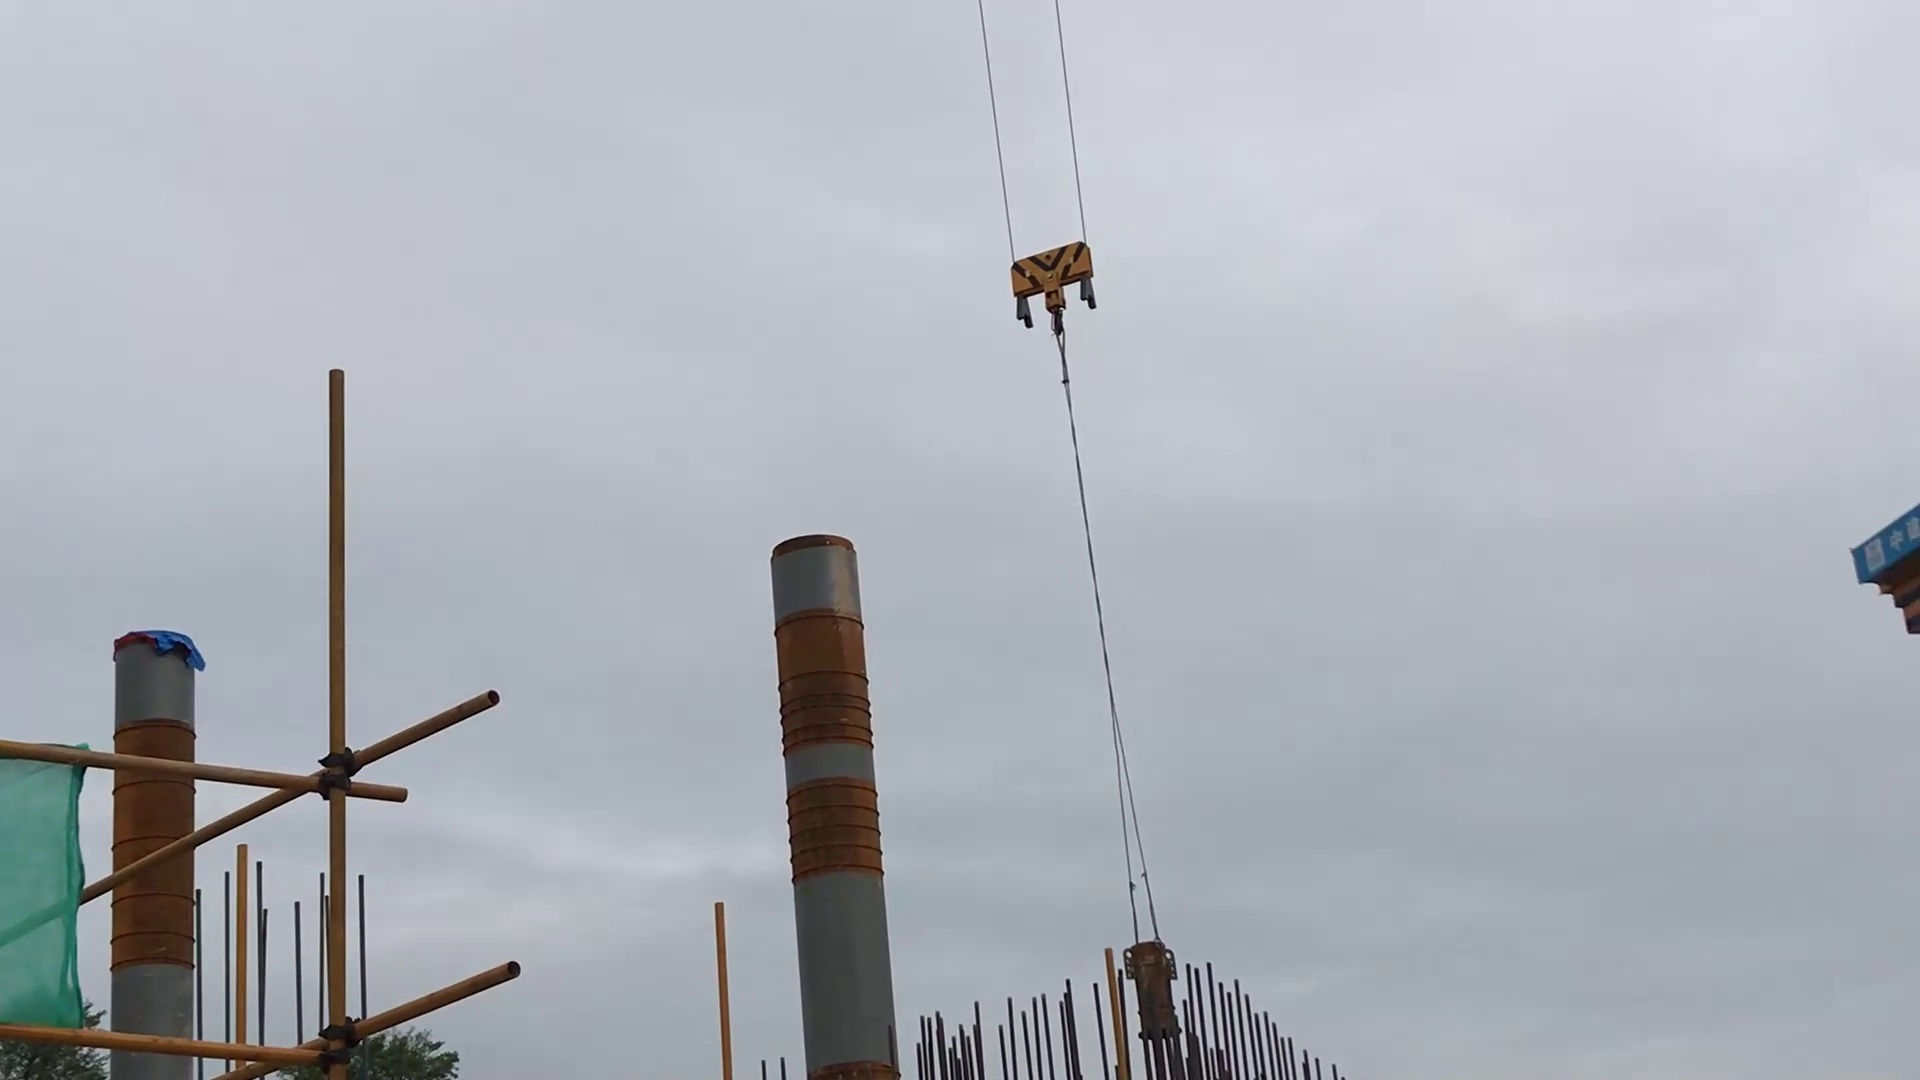hook: (996, 236, 1106, 340)
